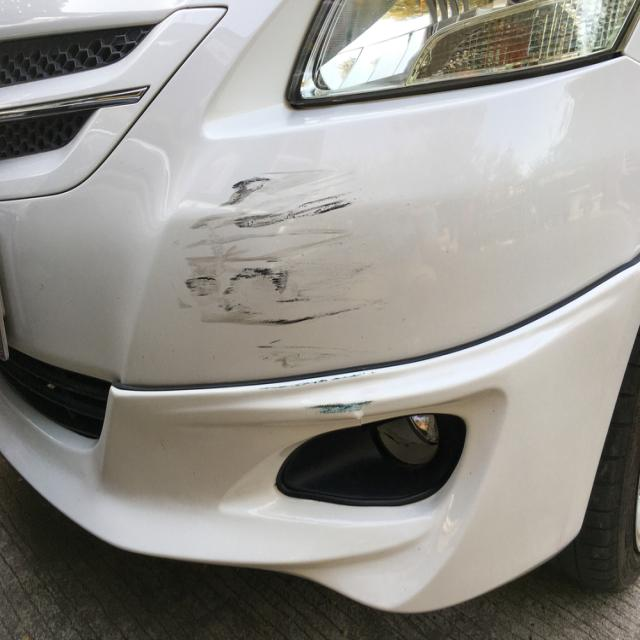scratch: (171, 162, 386, 380), (303, 398, 380, 419)
